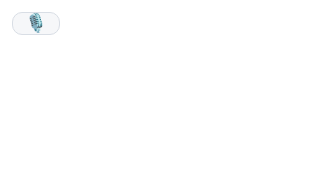
it: MicButton › starts listening on click with continuous=false, interim results, en-US
The width and height of the screenshot is (332, 172).
Click the button named "dictate with voice input". click: x=36, y=24
box: [12,12,60,35]
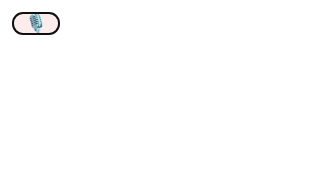
Expected: the button named "stop voice input" is pressed, [12,12,60,35]
Expected: the button named "stop voice input" has class "mic-button-listening", [12,12,60,35]
